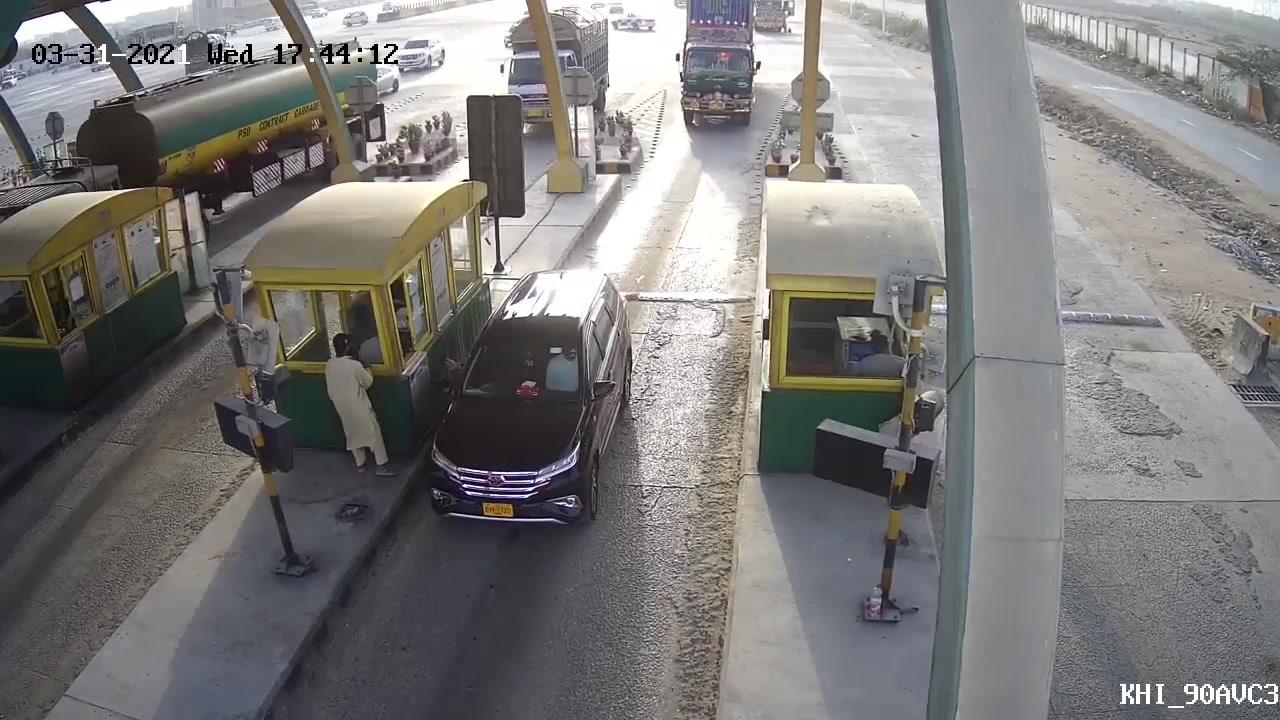F1: (427, 266, 638, 539)
